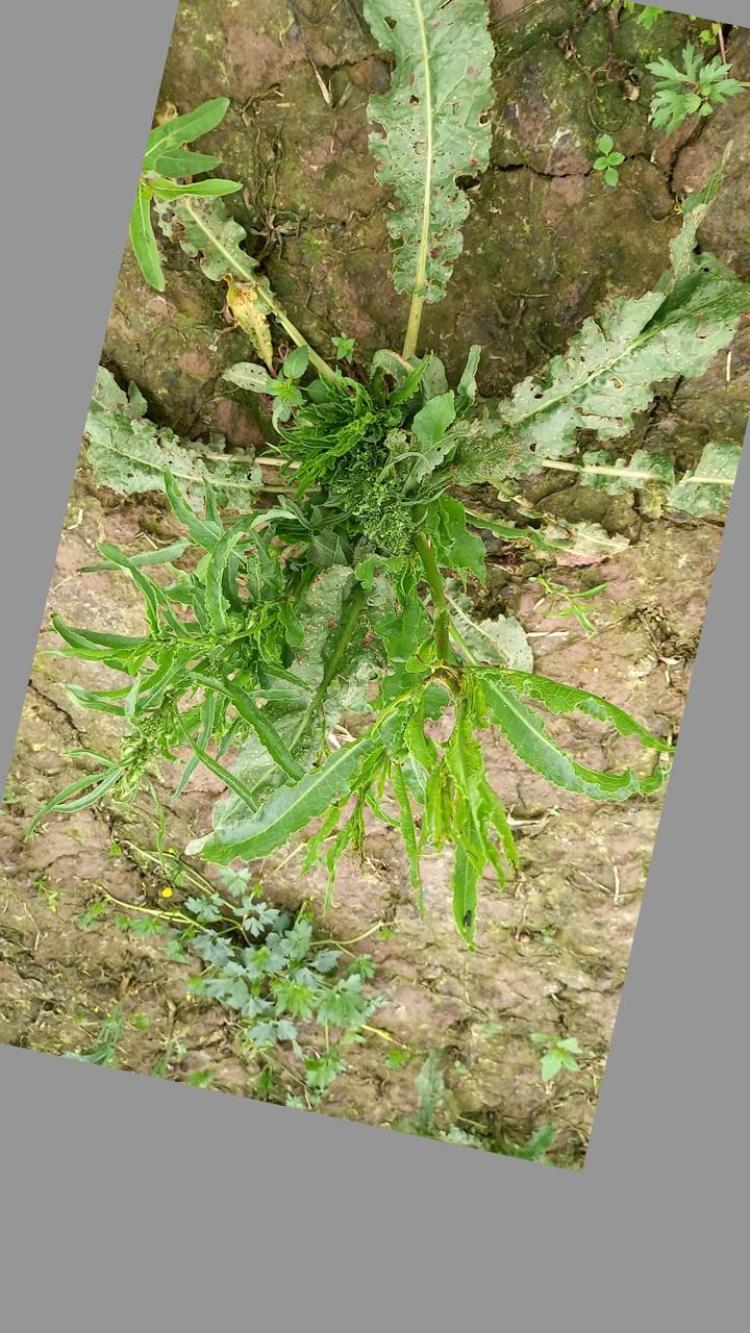zhavel: (89, 4, 750, 939)
